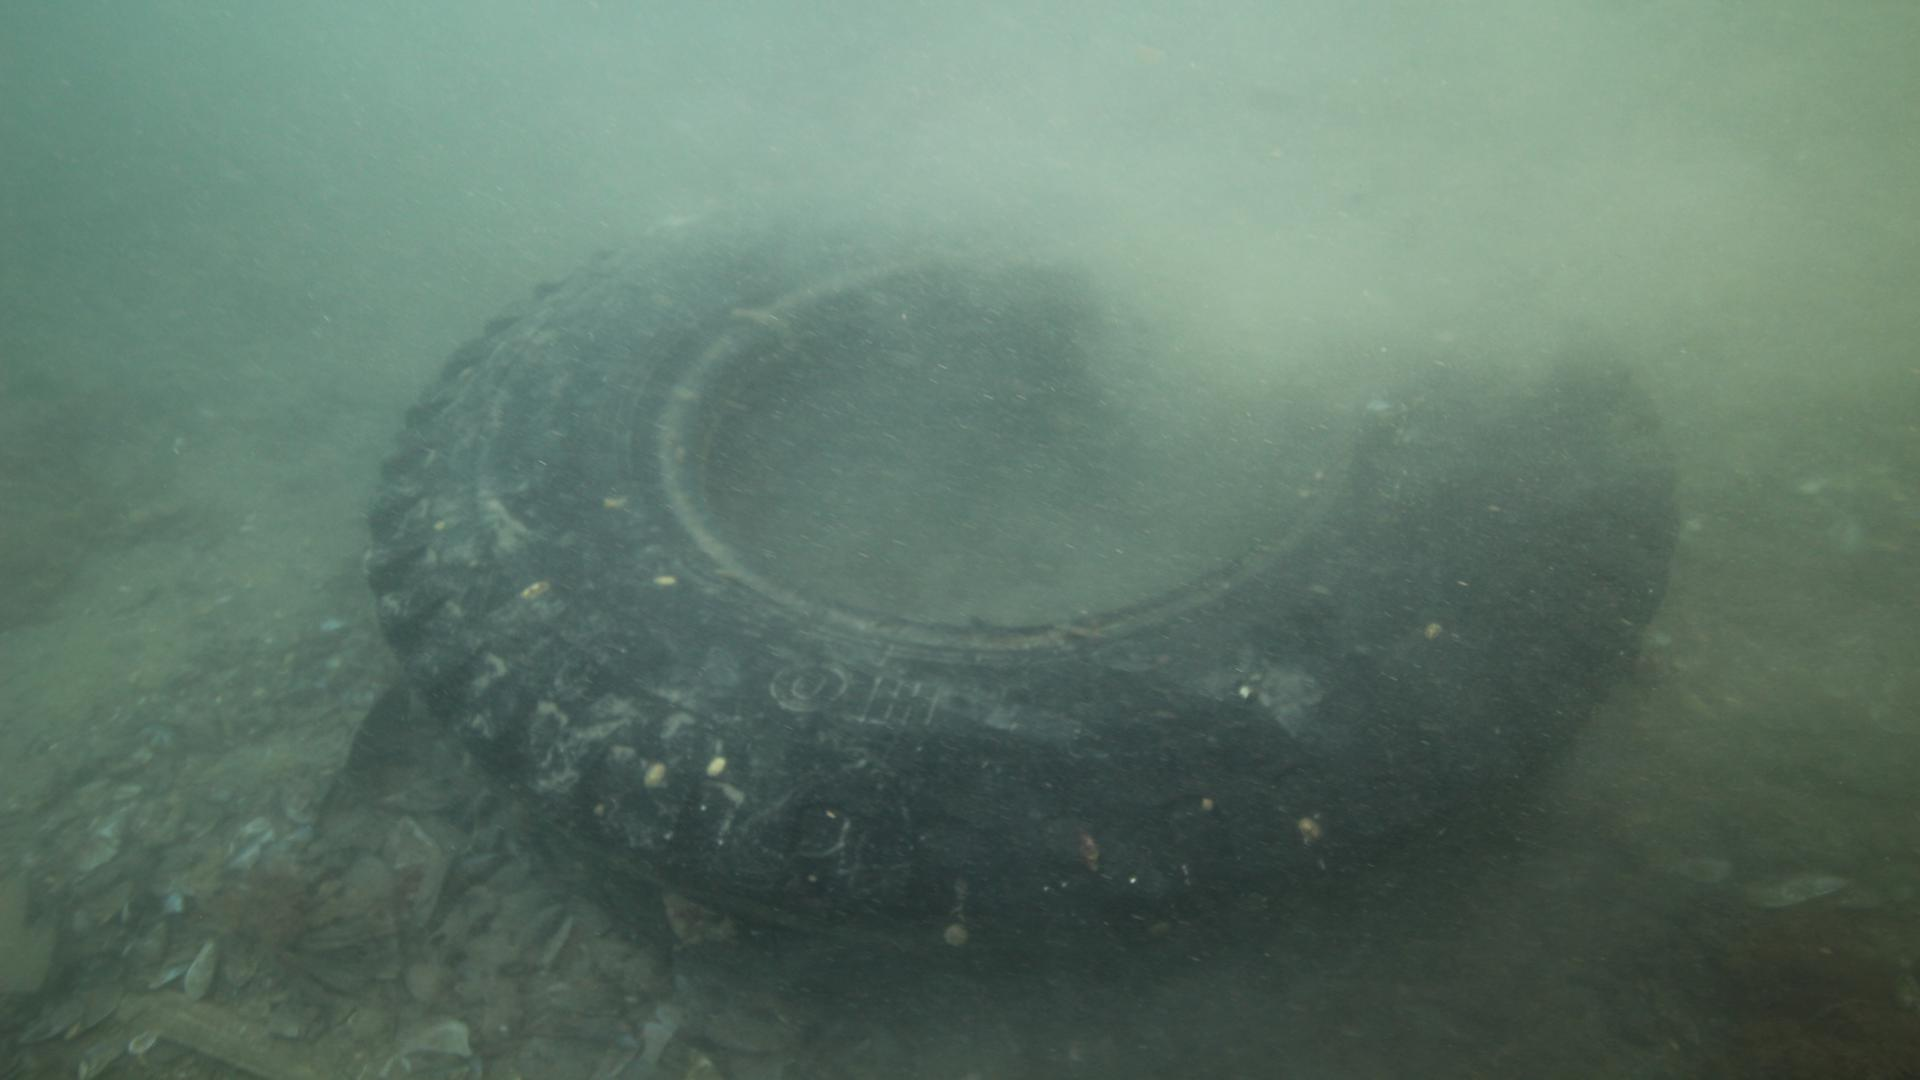tire: (367, 208, 1673, 963)
